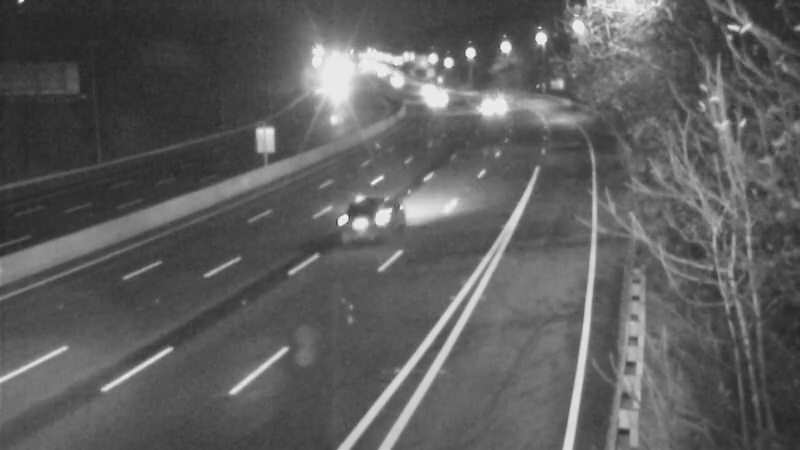vehicle: (327, 177, 407, 257), (402, 62, 452, 112), (410, 76, 460, 126), (465, 76, 515, 126)
